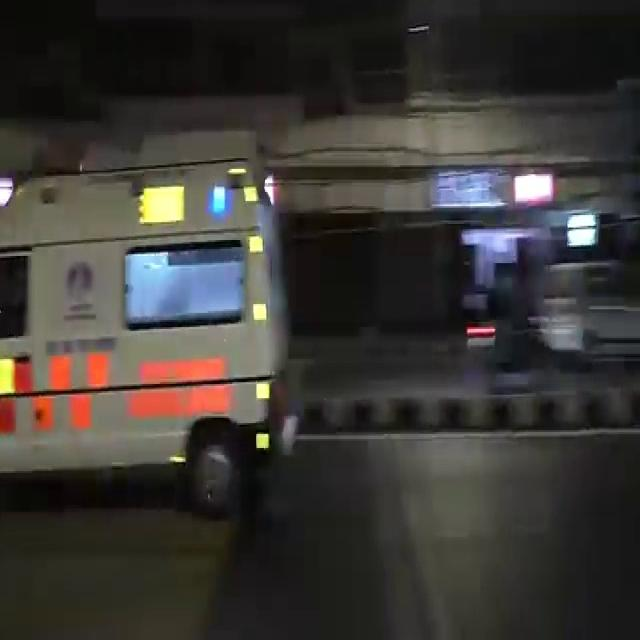ambulance: (0, 178, 290, 486)
